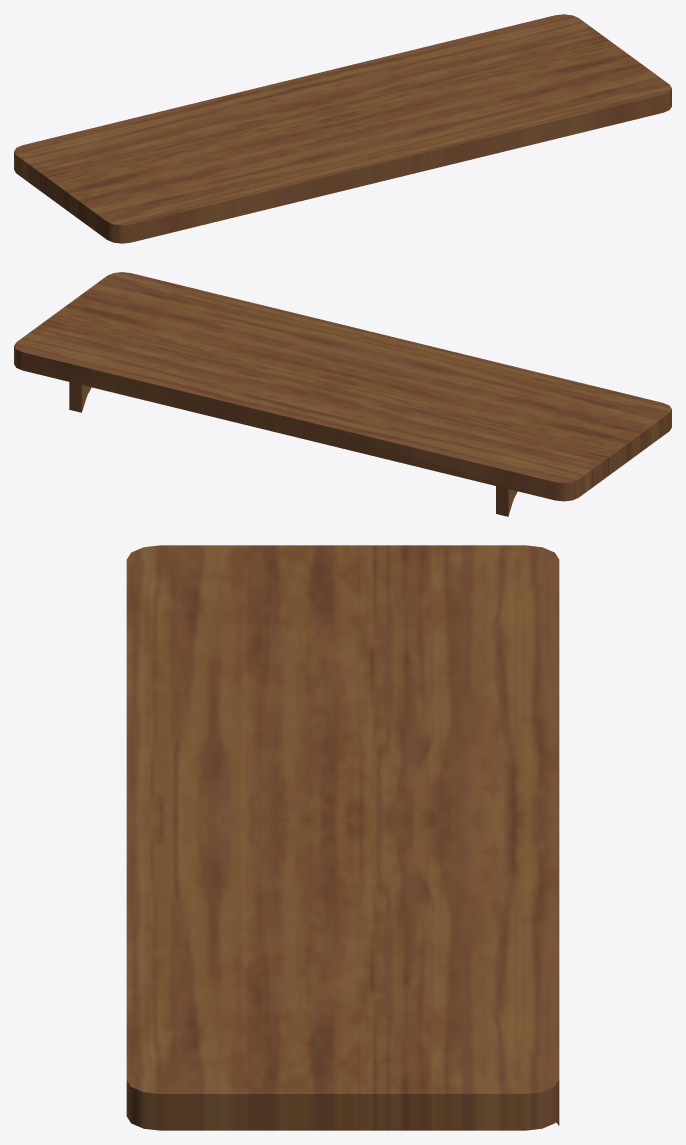
File: CI_105_106_shelf.glb
3 renders of one model, top to bottom at view 1: azimuth 30°, elevation 25°; view 2: azimuth 150°, elevation 25°; view 3: azimuth 270°, elevation 25°, orthographic. The views are drawn at different scales.
Visible parts, largest first — view 1: shelf; view 2: shelf; view 3: shelf.
Part boxes in pixels (box(x1,y1,x2,y2)): shelf: box(14, 14, 671, 243); shelf: box(14, 272, 671, 516); shelf: box(126, 545, 559, 1130).
Bounding box in the file's own units: 2.25 × 0.1765 × 0.75.
1 material, 1 textured.
